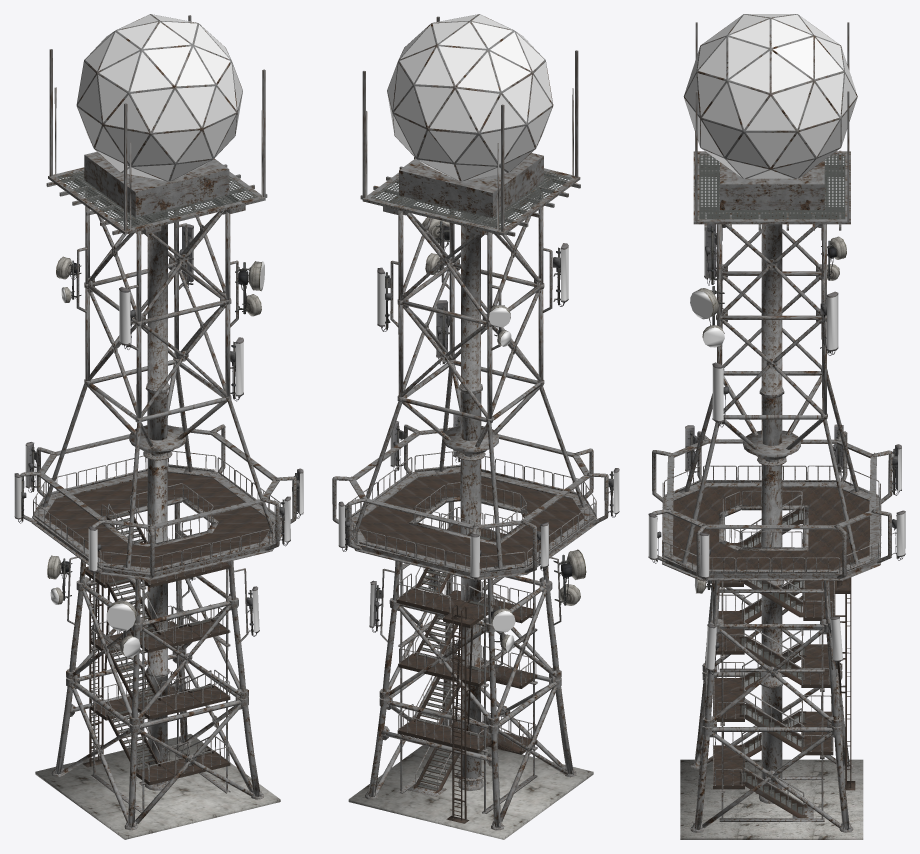
The model's file is SM_RepeaterMast.glb.
3 views of the same model, side by side, from view 1: azimuth 30°, elevation 25°; view 2: azimuth 150°, elevation 25°; view 3: azimuth 270°, elevation 25° (orthographic). The views are drawn at different scales.
Parts seen in each view (by area): view 1: SM_RepeaterMast; view 2: SM_RepeaterMast; view 3: SM_RepeaterMast.
Boxes of the visible parts, box(x1,y1,x2,y2) form: SM_RepeaterMast: box(14, 14, 303, 839); SM_RepeaterMast: box(332, 14, 619, 839); SM_RepeaterMast: box(648, 14, 905, 839).
Size of the model in its own units: 13.99 by 46.22 by 13.72.
10 materials, 9 textured.
